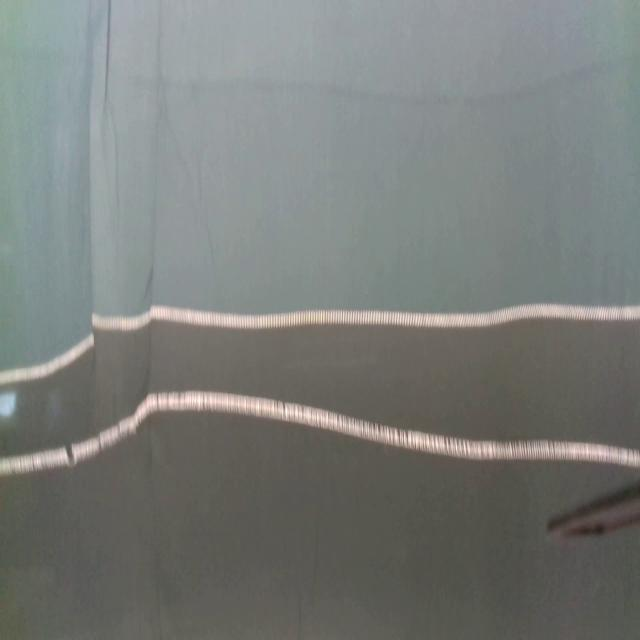color bleeding: (128, 49, 640, 110)
crease: (103, 0, 113, 105)
